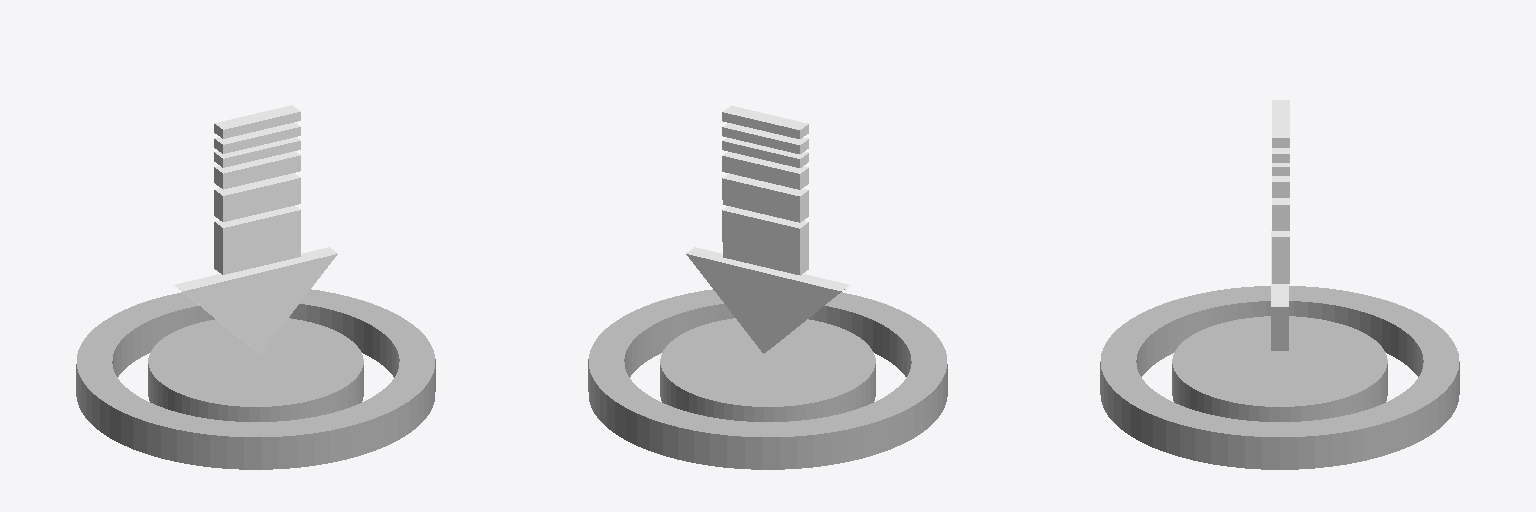
The model's file is teleport.obj.
3 renders of one model, left to right at view 1: azimuth 30°, elevation 25°; view 2: azimuth 150°, elevation 25°; view 3: azimuth 270°, elevation 25°, orthographic.
Parts seen in each view (by area): view 1: Outer_Ring_Cylinder, Inner_cylinder_Cylinder.002, Box1, Box, Box2, Box3, Box6, Box5, Box4; view 2: Outer_Ring_Cylinder, Inner_cylinder_Cylinder.002, Box1, Box, Box2, Box3, Box6, Box5, Box4; view 3: Outer_Ring_Cylinder, Inner_cylinder_Cylinder.002, Box1, Box, Box6, Box2.
Boxes of the visible parts, <box> form: Outer_Ring_Cylinder: <box>76,289,435,469</box>; Inner_cylinder_Cylinder.002: <box>148,318,363,421</box>; Box1: <box>174,247,337,353</box>; Box: <box>214,206,300,274</box>; Box2: <box>214,173,300,221</box>; Box3: <box>214,151,300,189</box>; Box6: <box>214,105,300,138</box>; Box5: <box>214,122,300,153</box>; Box4: <box>214,137,300,167</box>; Outer_Ring_Cylinder: <box>588,289,947,469</box>; Inner_cylinder_Cylinder.002: <box>660,318,875,421</box>; Box1: <box>686,247,849,353</box>; Box: <box>722,206,808,275</box>; Box2: <box>722,173,808,222</box>; Box3: <box>722,152,808,189</box>; Box6: <box>722,106,808,138</box>; Box5: <box>722,123,808,153</box>; Box4: <box>722,138,808,167</box>; Outer_Ring_Cylinder: <box>1100,286,1459,469</box>; Inner_cylinder_Cylinder.002: <box>1172,316,1387,421</box>; Box1: <box>1271,231,1288,350</box>; Box: <box>1272,231,1289,283</box>; Box6: <box>1272,100,1289,147</box>; Box2: <box>1272,198,1289,230</box>.
Bounding box in the file's own units: 2 × 1.7 × 2.